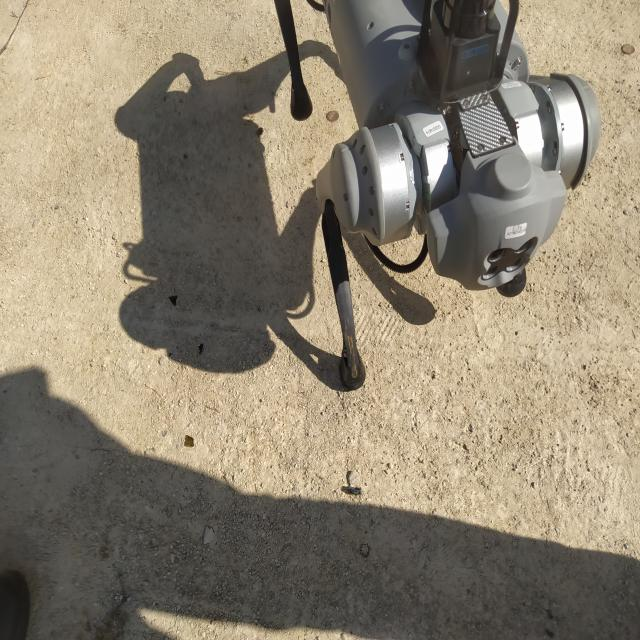unitree-go1-robot: (258, 0, 614, 405)
